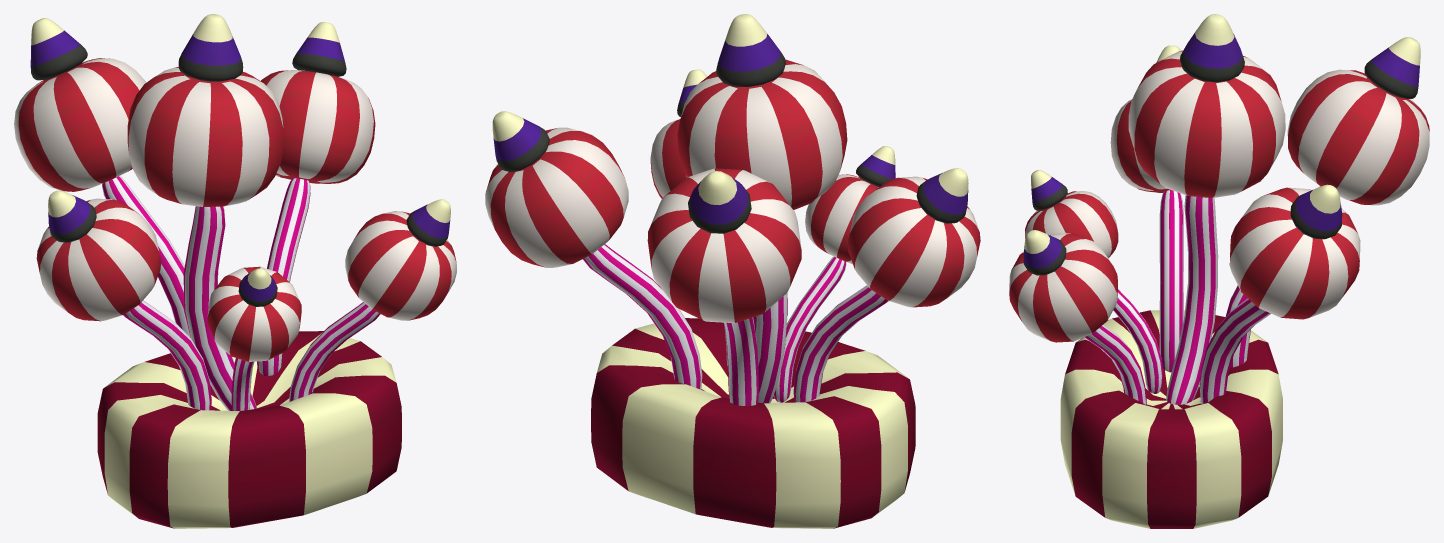
File: cw_PlantsFlowers_12.fbx
The picture shows the model from 3 angles, left to right: view 1: azimuth 30°, elevation 25°; view 2: azimuth 150°, elevation 25°; view 3: azimuth 270°, elevation 25°; orthographic projection. The views are drawn at different scales.
Visible parts, largest first — view 1: cw_pf_12; view 2: cw_pf_12; view 3: cw_pf_12.
Boxes of the visible parts, bbox=[...] form: cw_pf_12: bbox=[14, 14, 456, 528]; cw_pf_12: bbox=[485, 14, 980, 528]; cw_pf_12: bbox=[1009, 14, 1429, 528].
Bounding box in the file's own units: 167 × 188 × 160.
